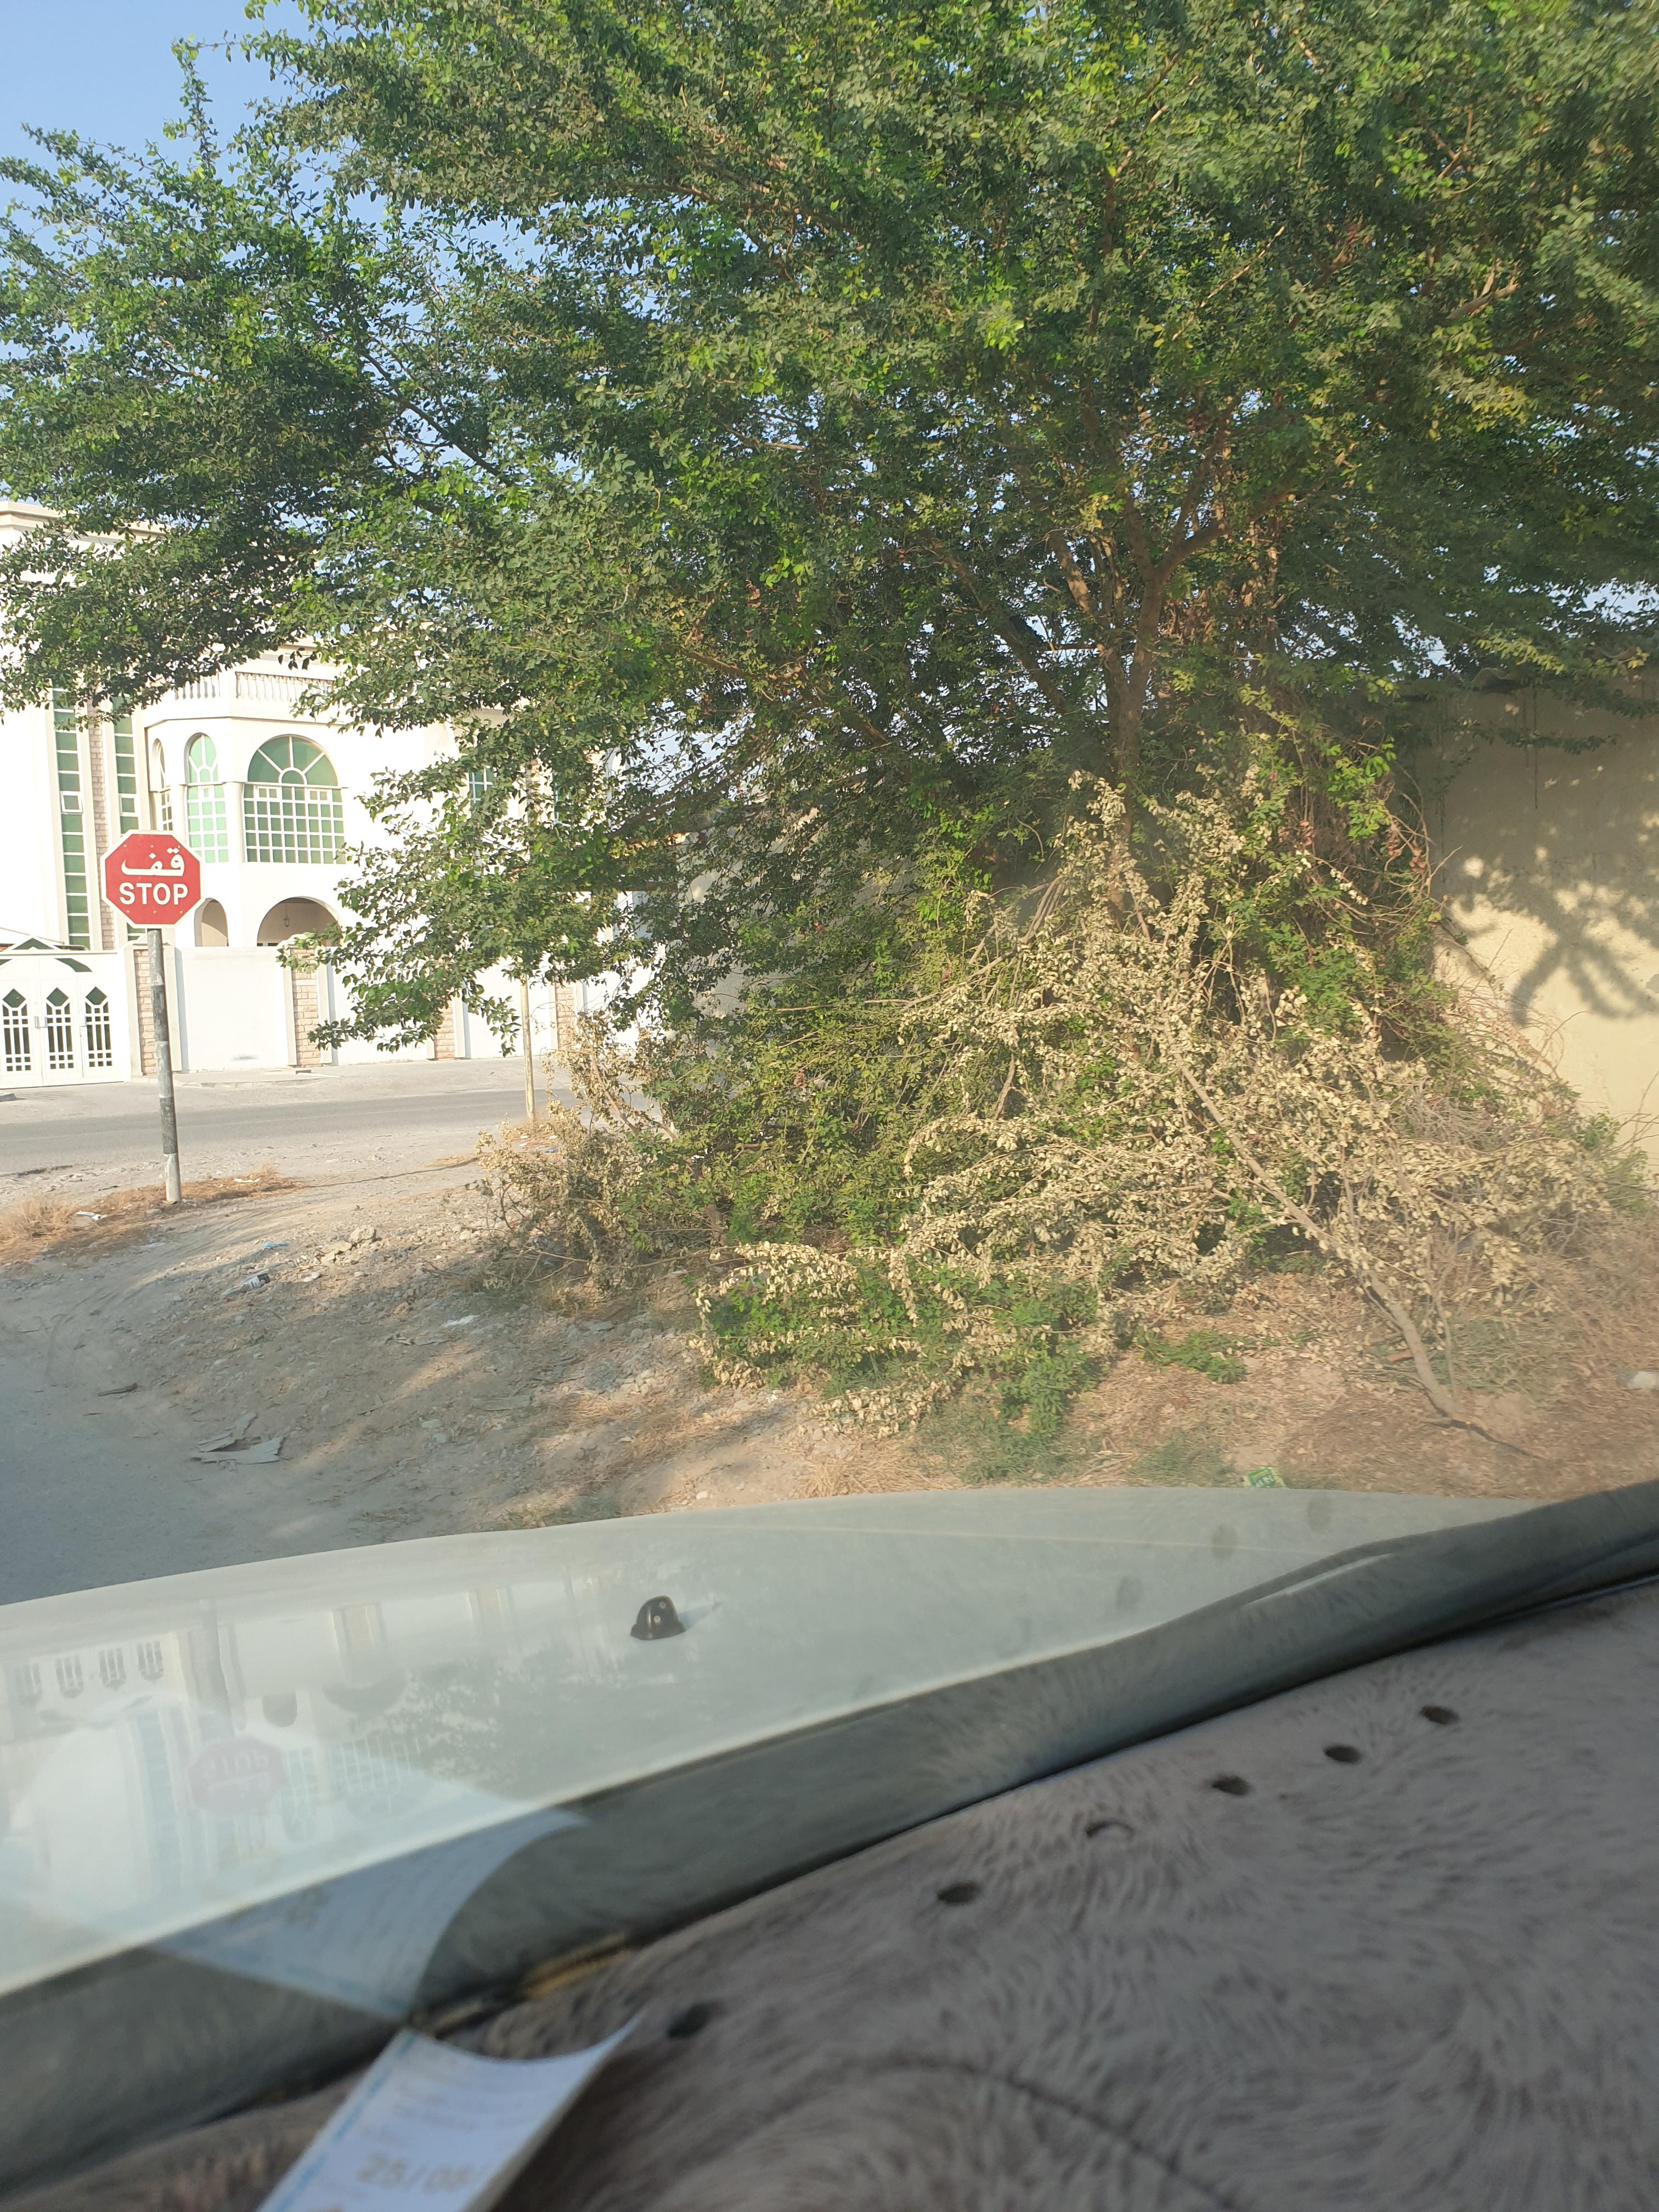fallen_trees: (1049, 1090, 1575, 1456), (1201, 1212, 1535, 1426), (432, 1153, 657, 1437)
